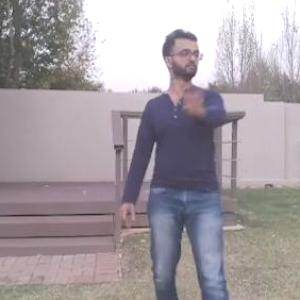takeoff-hand: (178, 80, 209, 121)
